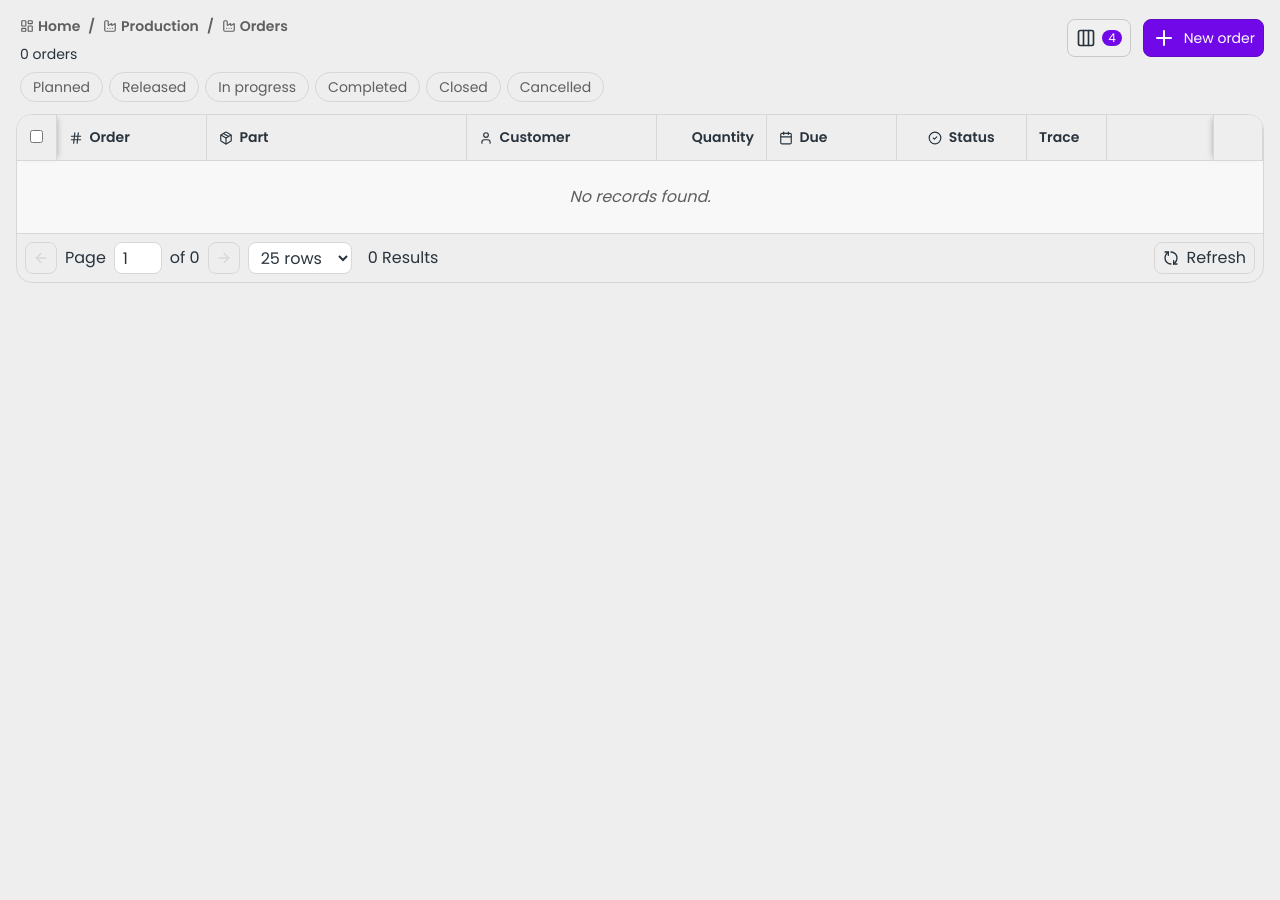
Test: production orders register › shows the database's answer when it refuses
Click the button "New order" at x=1203, y=38, box top-left (1143, 19), bottom-right (1264, 57)
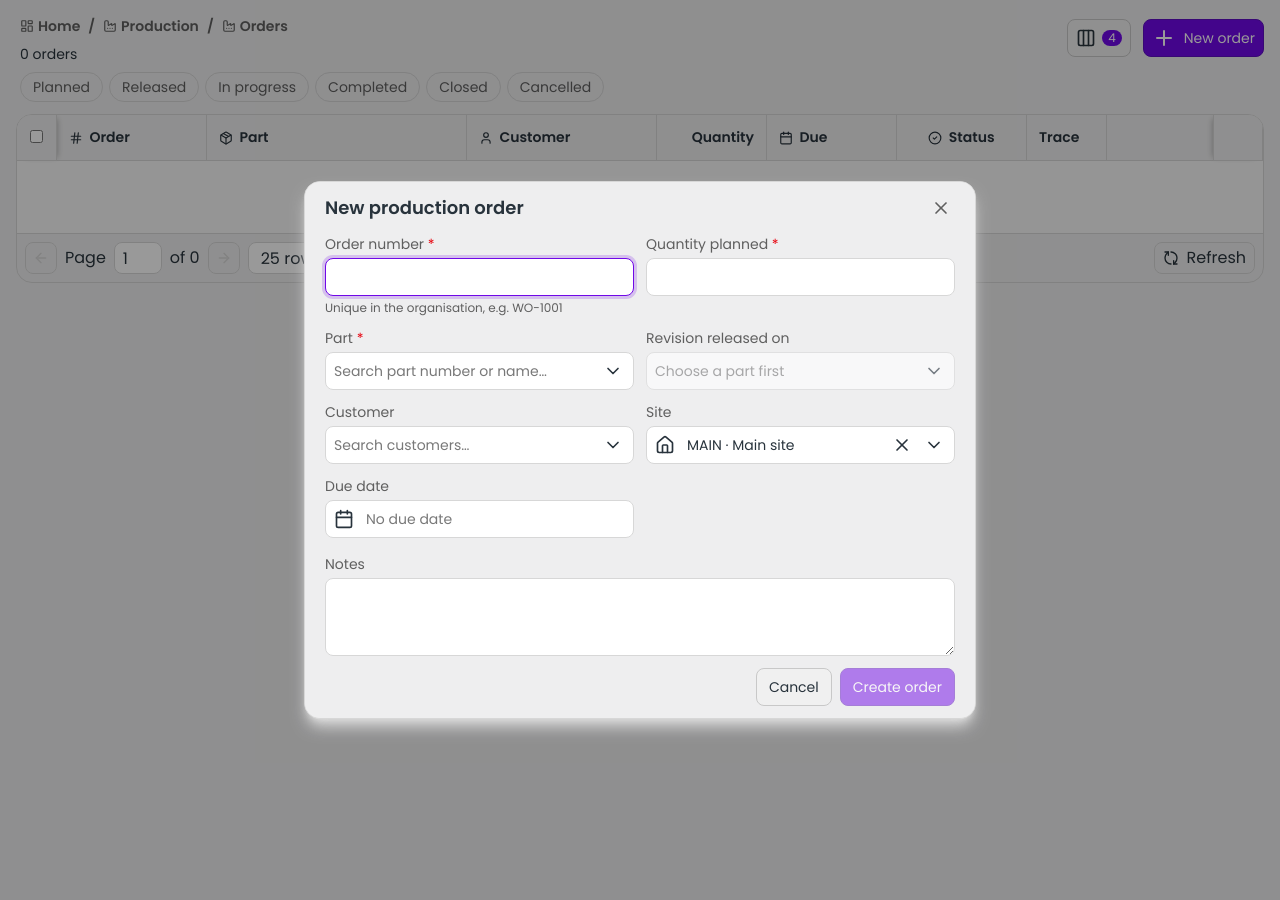
Type "WO-1" into the field labelled "Order number" at x=480, y=277, box top-left (325, 258), bottom-right (634, 296)
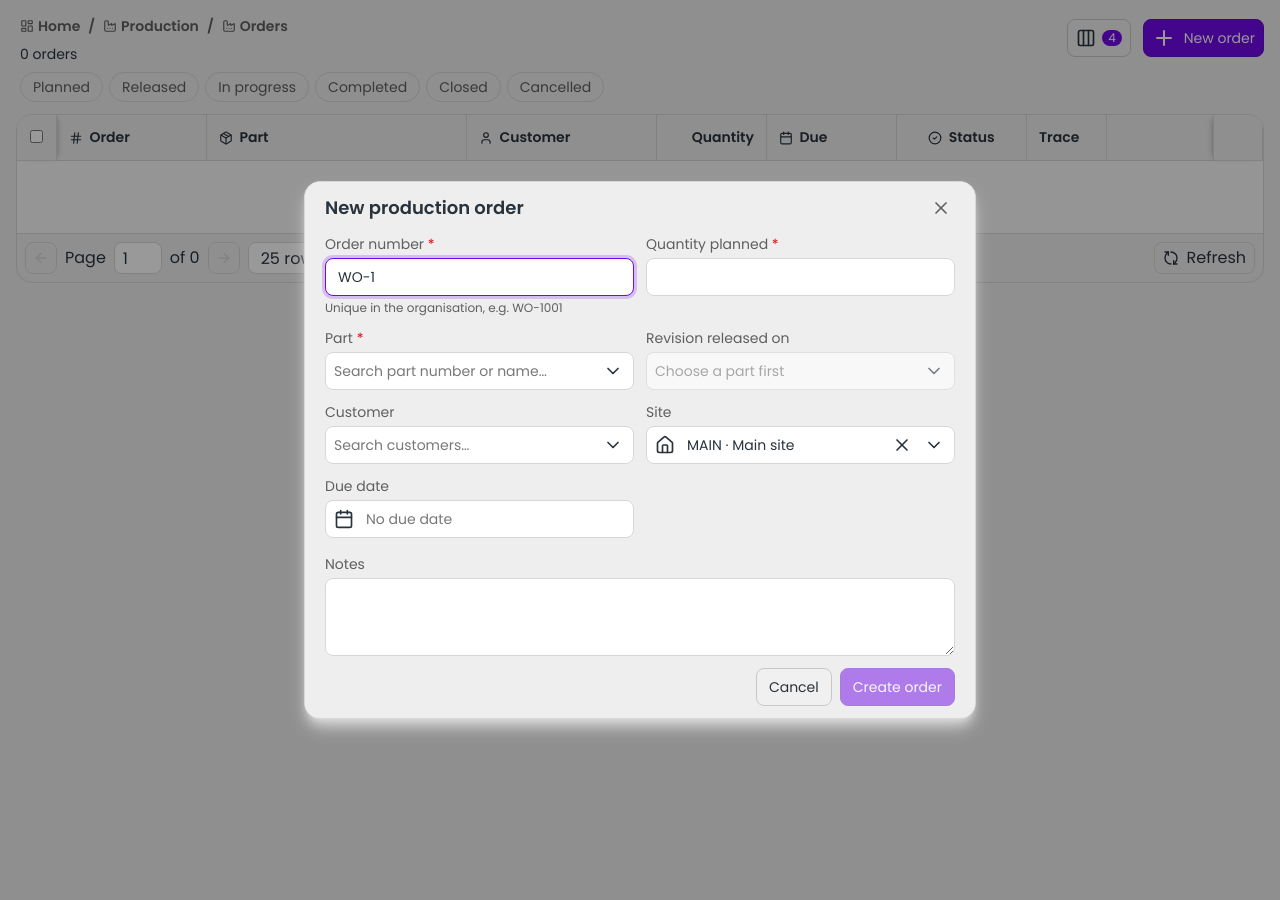
Type "5" into the number field labelled "Quantity planned" at x=800, y=277, box top-left (646, 258), bottom-right (955, 296)
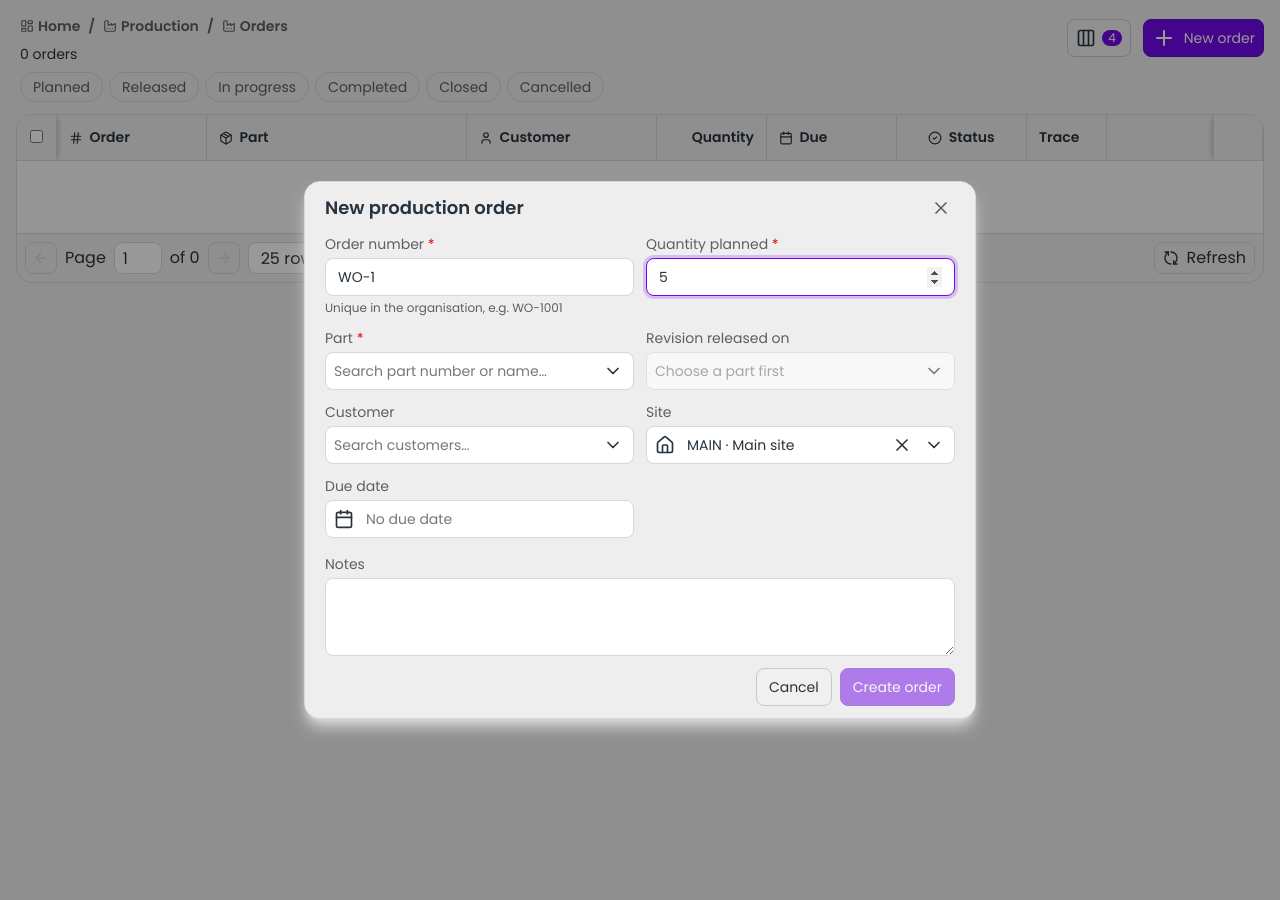
Click the dropdown labelled "Part" at x=462, y=371, box top-left (334, 360), bottom-right (589, 382)
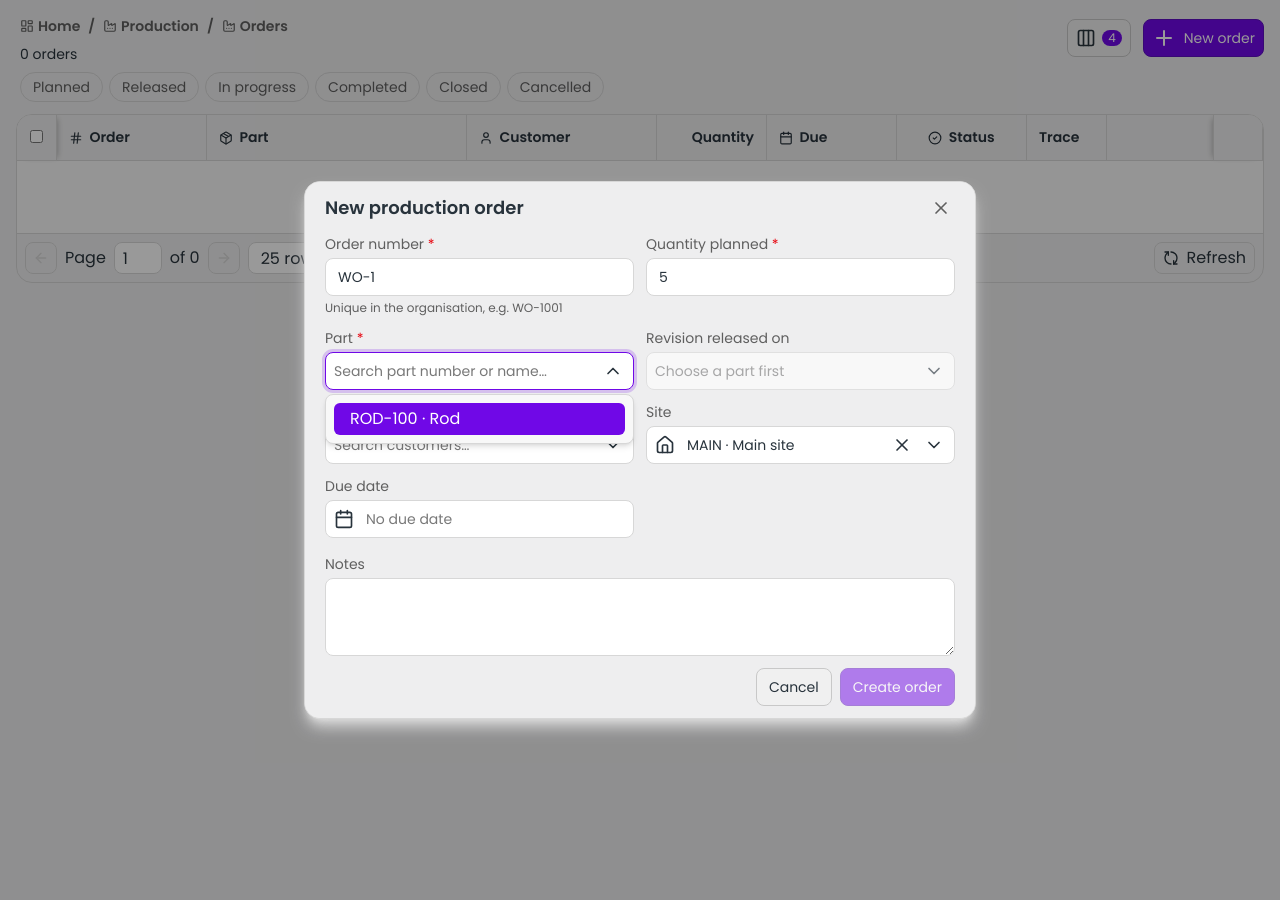
Click the option "ROD-100 · Rod" at x=480, y=419, box top-left (326, 399), bottom-right (633, 439)
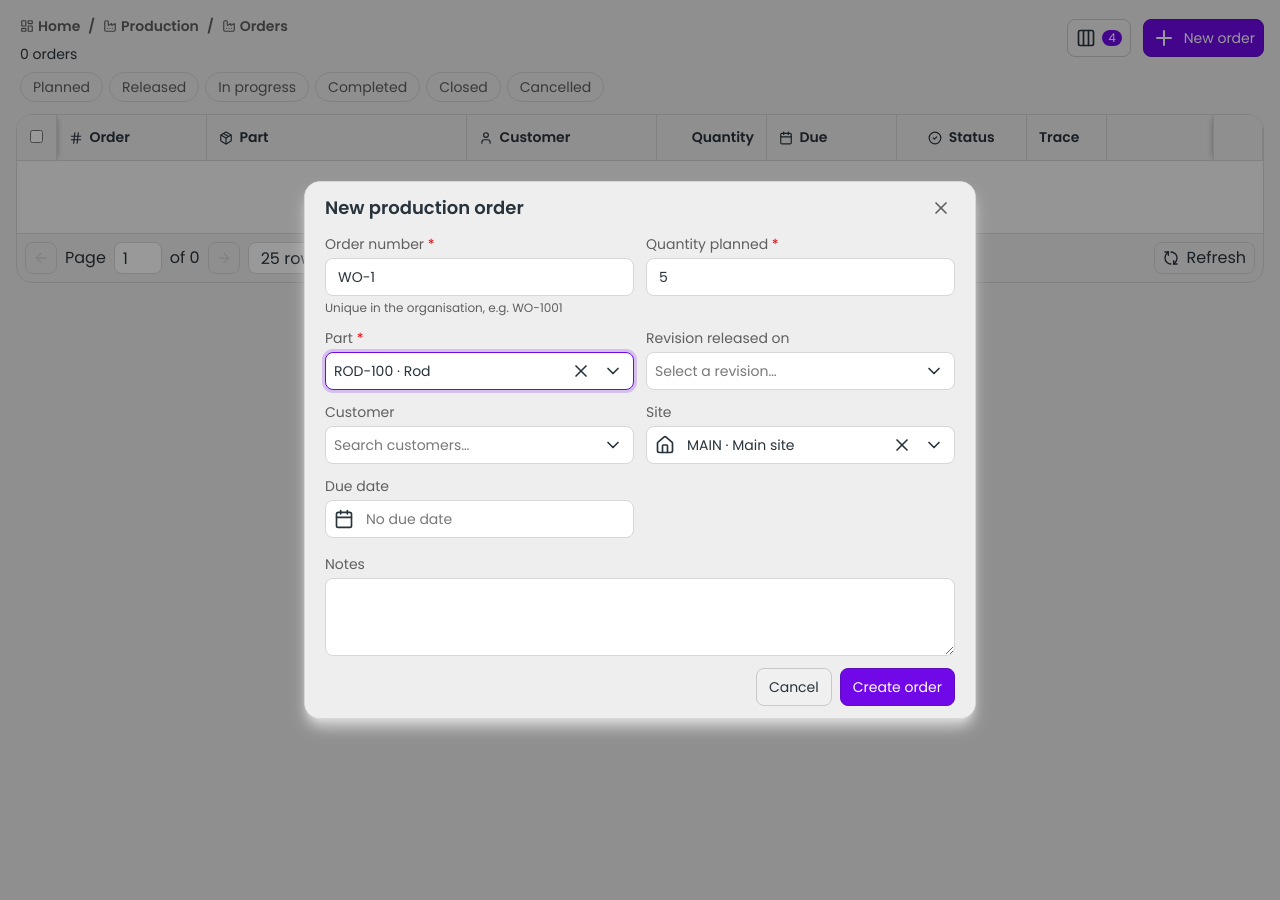
Click the button "Create order" at x=897, y=687, box top-left (840, 668), bottom-right (955, 706)
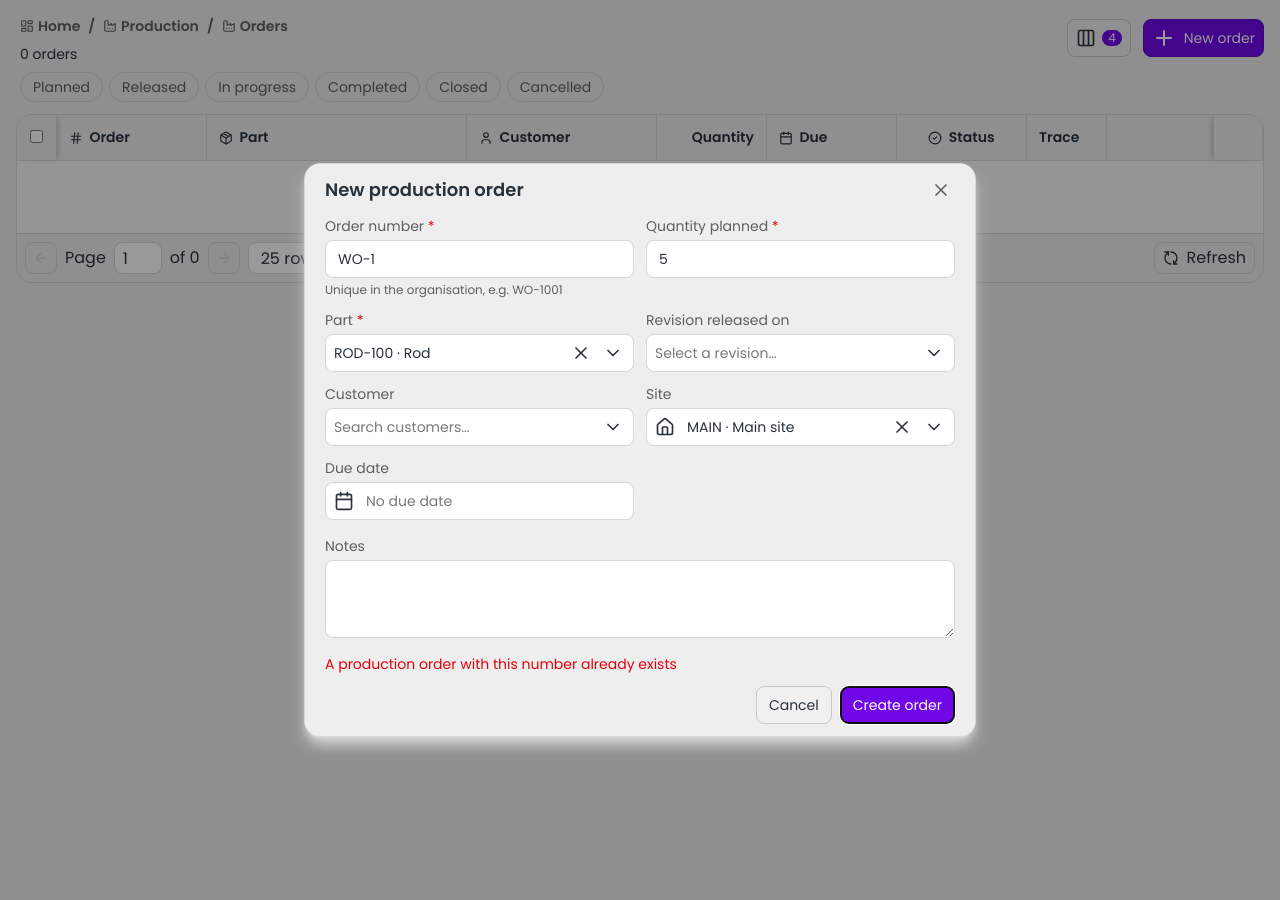
Expected: the message reads "A production order with this number already exists", top-left (325, 654), bottom-right (677, 674)
